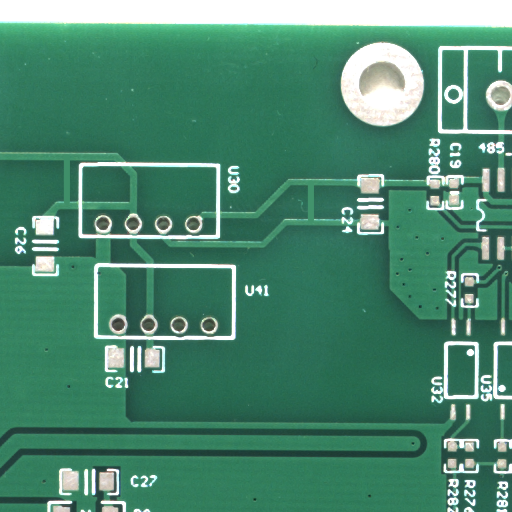Short: (67, 181, 78, 229), (311, 202, 320, 242)
